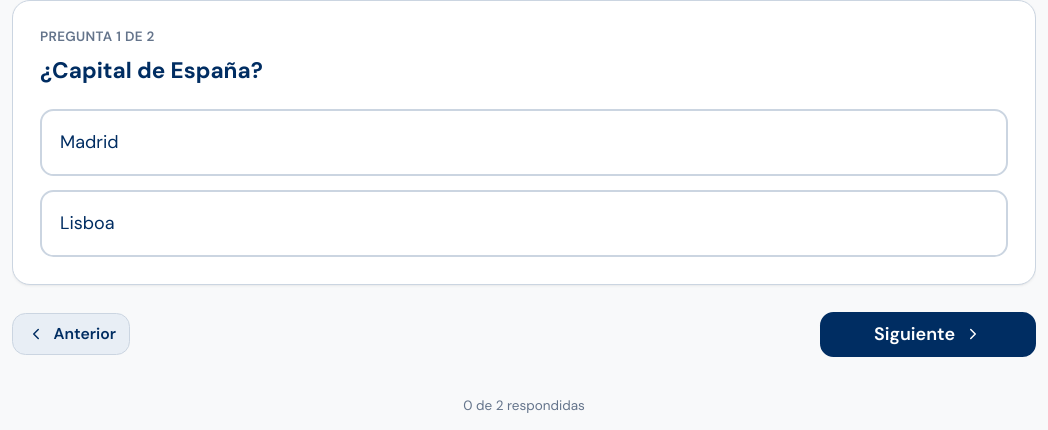
Scenario: Cuestionario › avanza a la siguiente pregunta al elegir respuesta
Click the radio button labelled "Madrid". click: {"x": 89, "y": 142}
box: [40,109,1008,176]
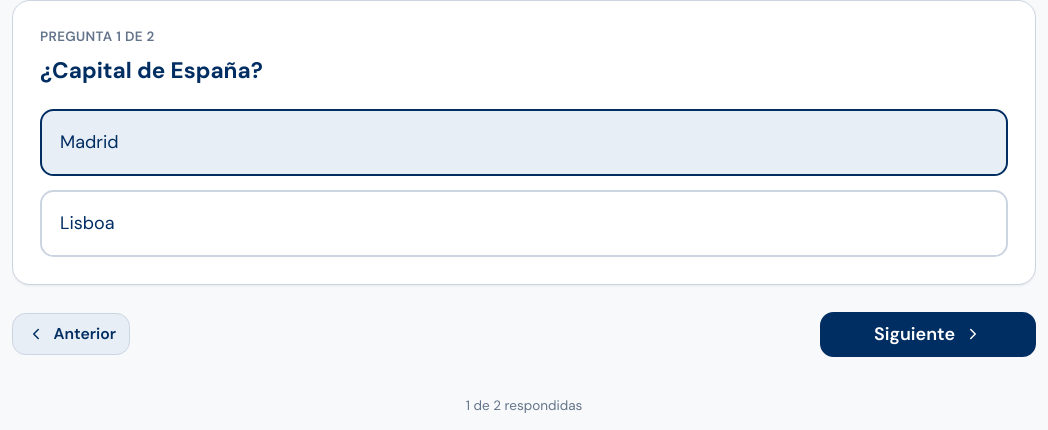
Click the button "Siguiente". click: {"x": 928, "y": 334}
box: [820,312,1036,356]
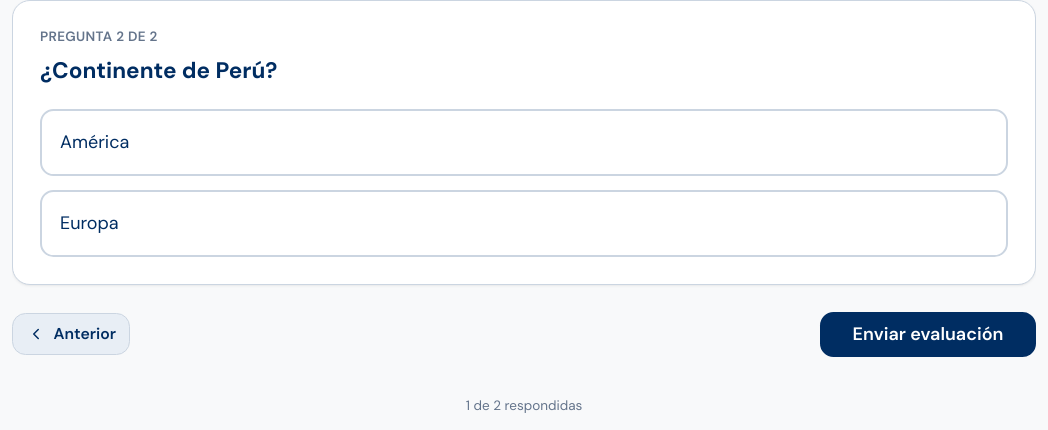
expect the text "Pregunta 2 de 2" is shown: met, box [40,28,158,45]
